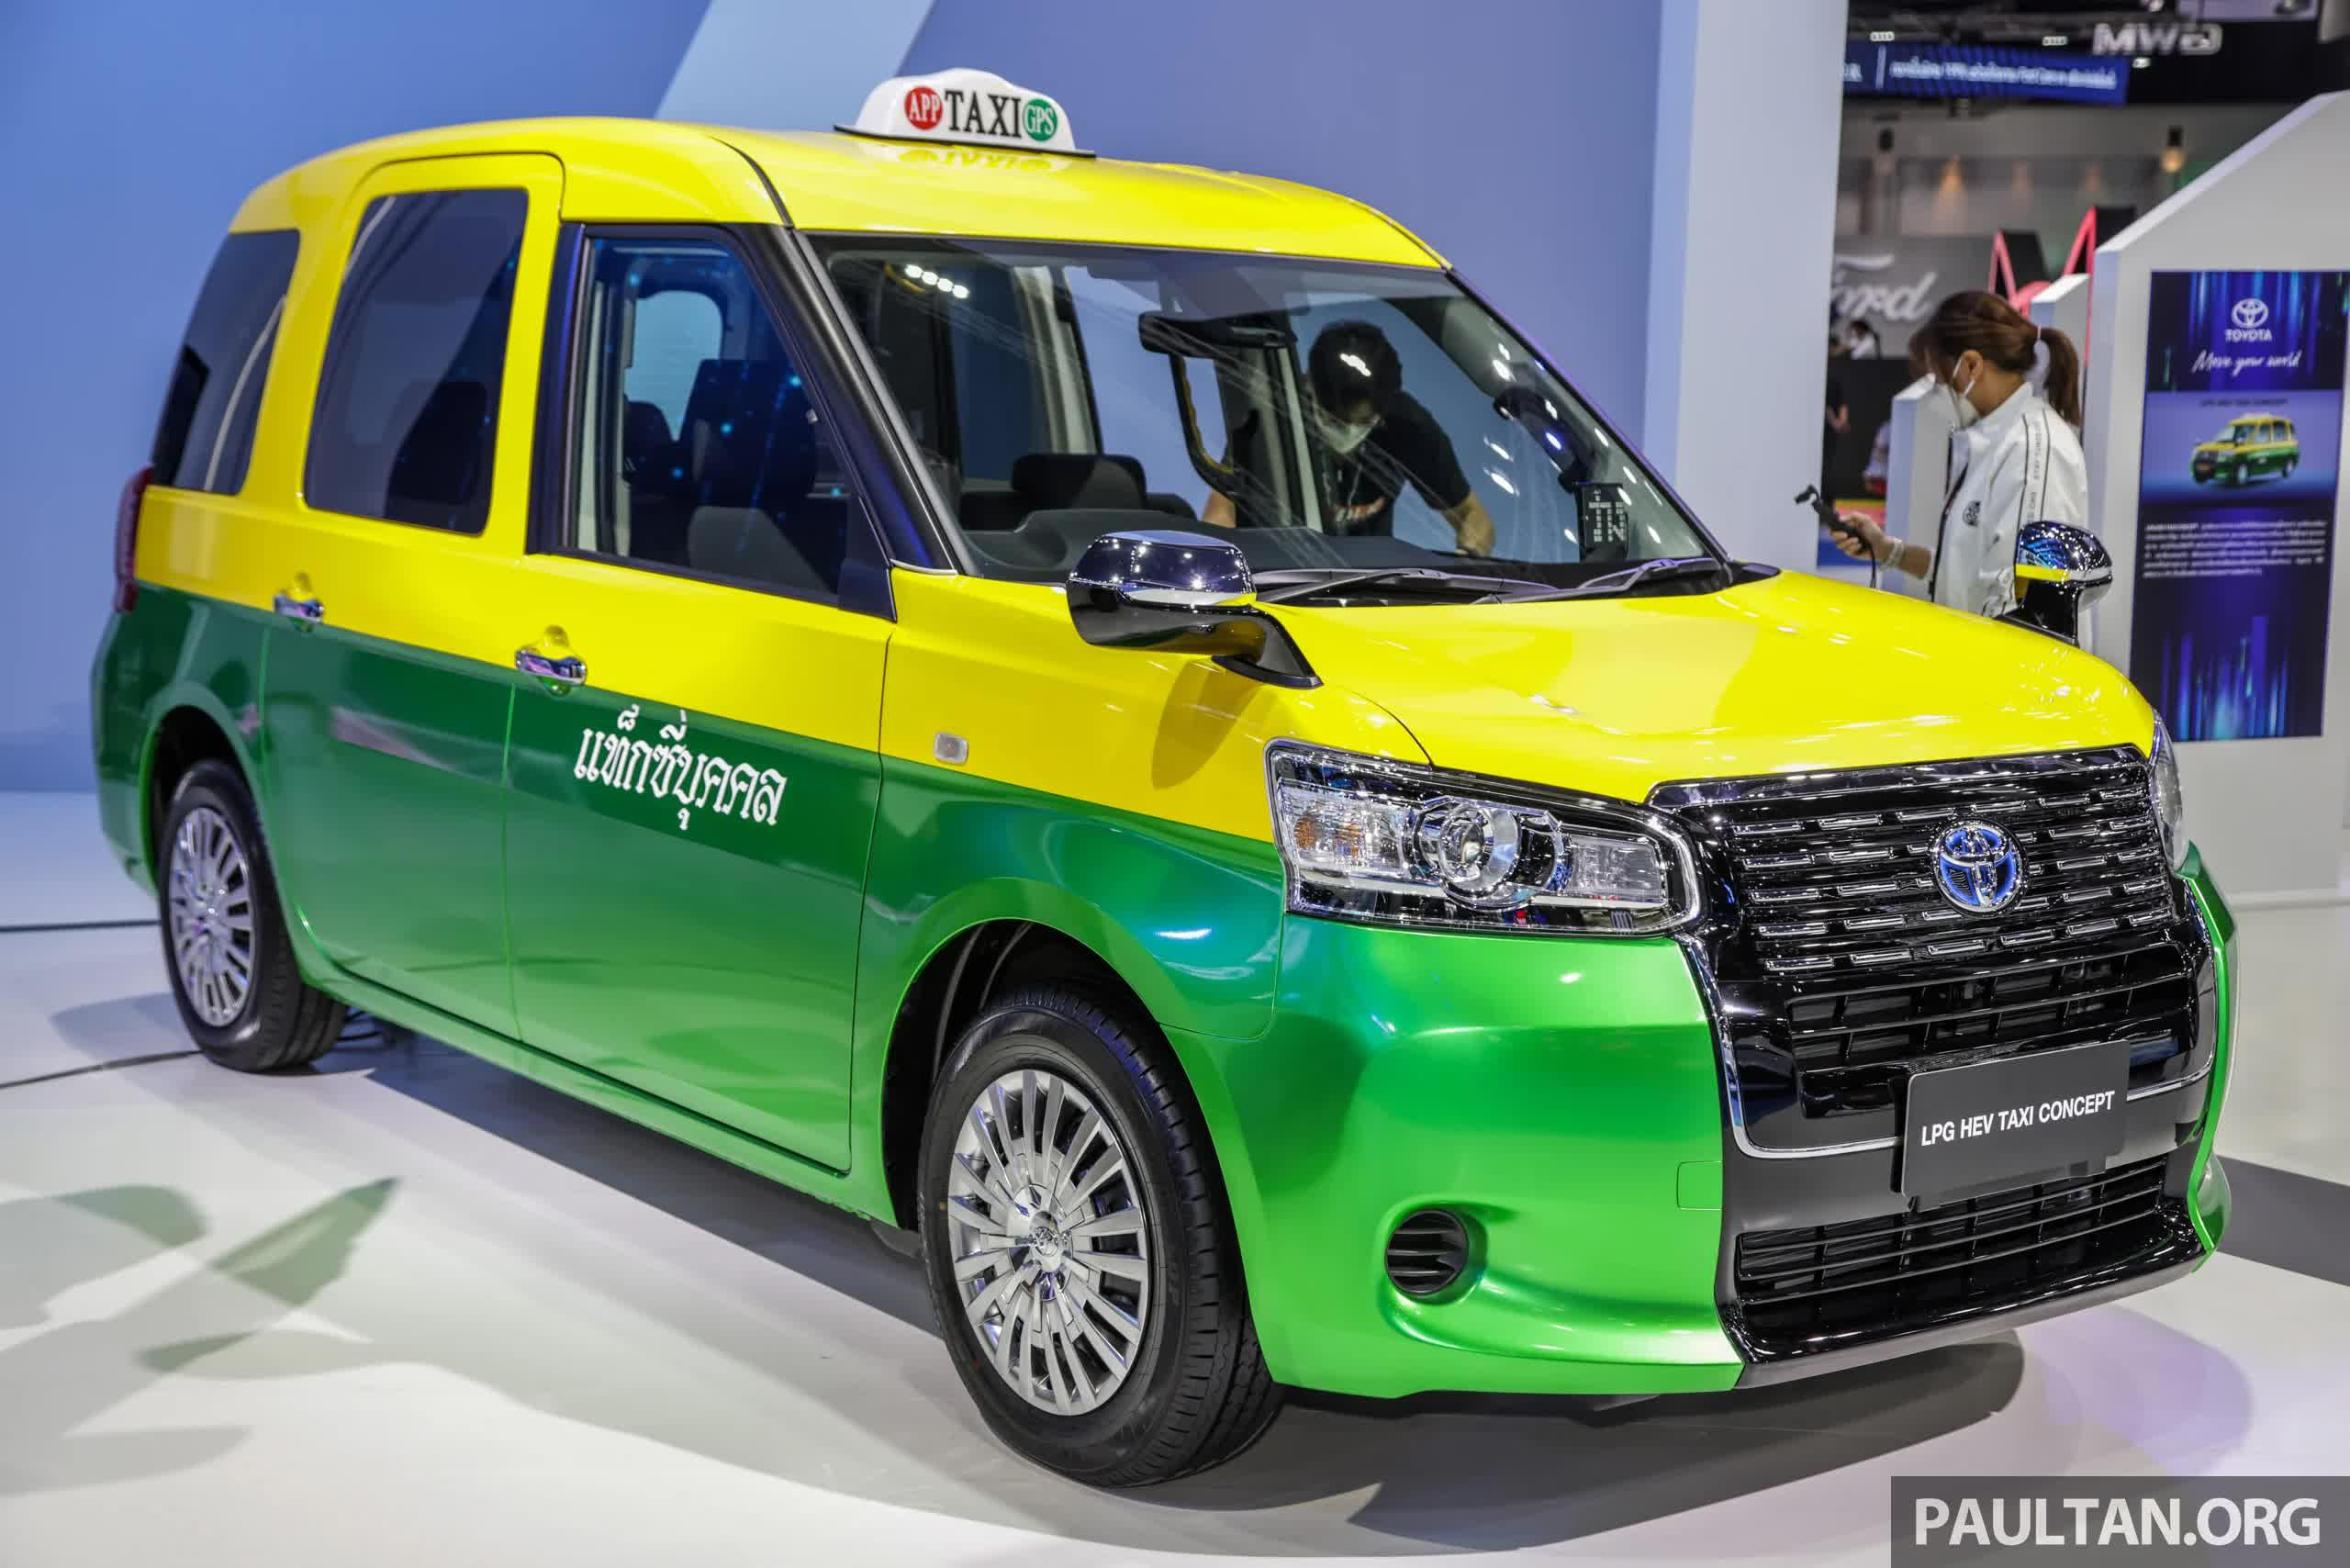taxi: (114, 47, 1890, 1403)
